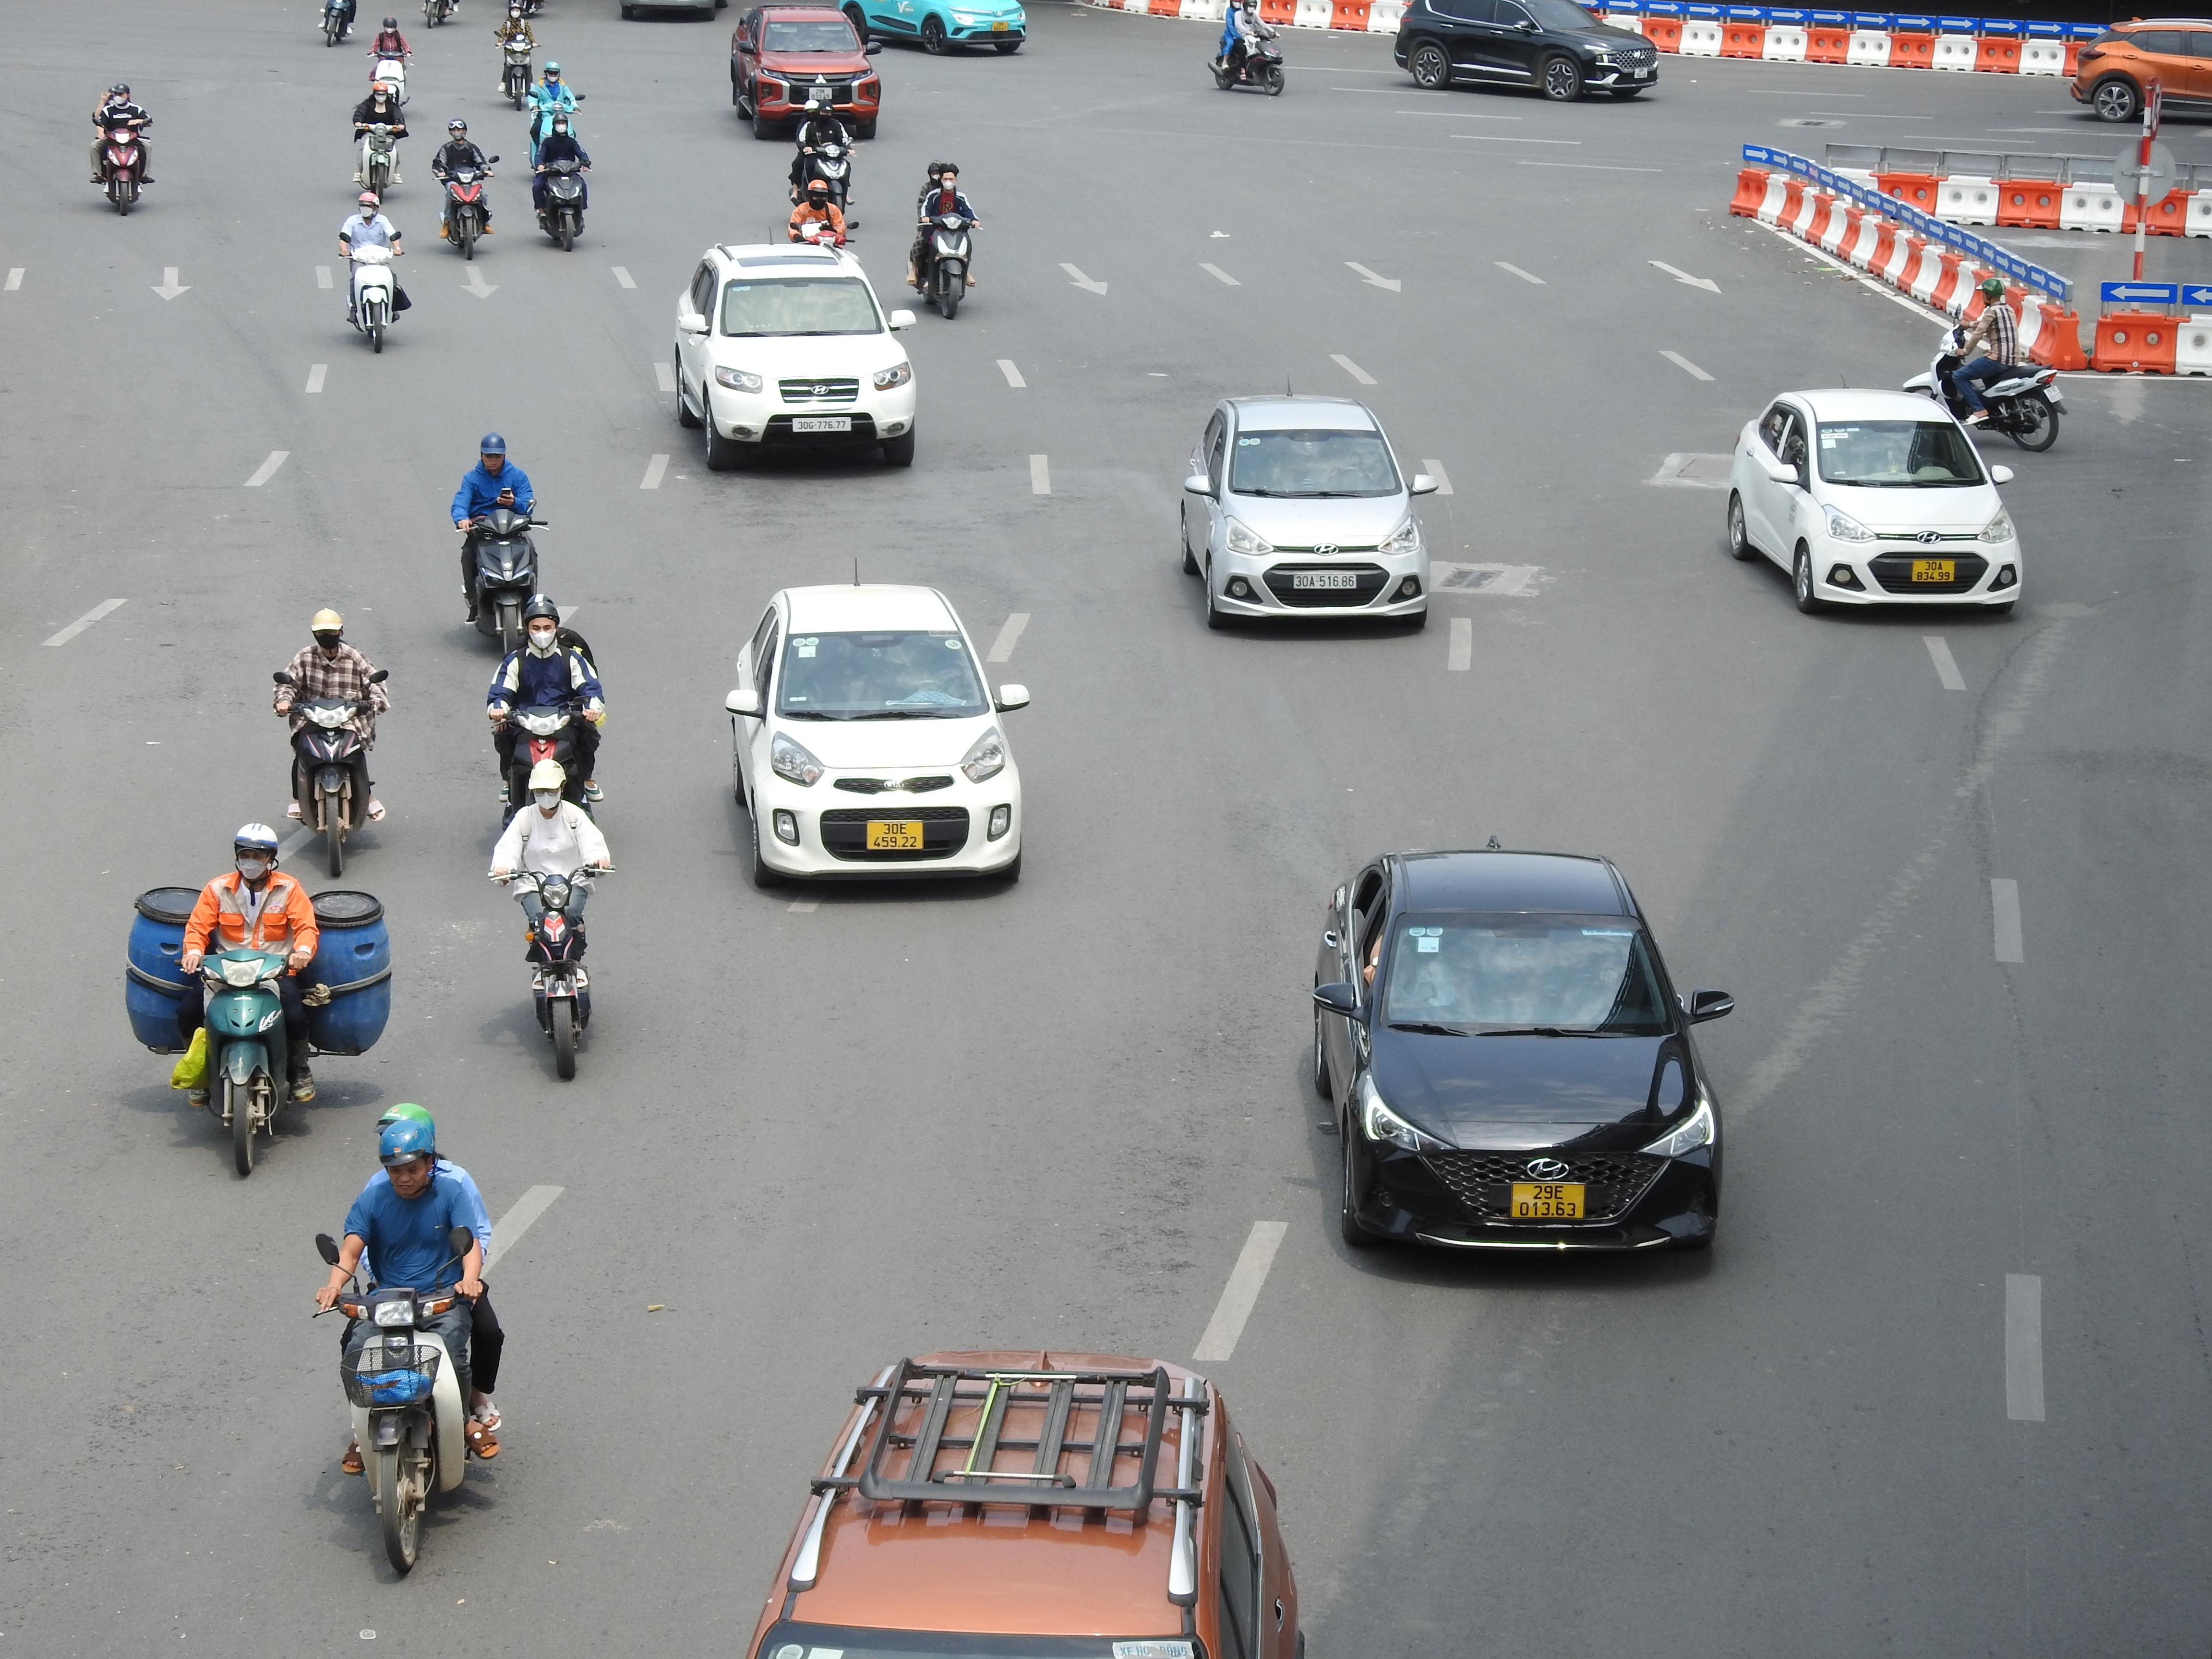BSD: (1292, 573, 1357, 589), (791, 416, 850, 432)
BSV: (1510, 1182, 1585, 1220), (866, 819, 923, 850), (1911, 559, 1954, 582), (808, 87, 833, 99)
car: (678, 1349, 1320, 1659), (1305, 847, 1735, 1262), (723, 582, 1033, 892), (1724, 387, 2024, 619), (1179, 396, 1444, 633), (669, 242, 920, 472), (1393, 0, 1662, 103), (728, 2, 883, 139), (2064, 21, 2212, 129), (846, 0, 1028, 56)
motorbike: (315, 1101, 505, 1581), (158, 821, 336, 1182), (495, 758, 610, 1082), (273, 605, 388, 878), (1904, 279, 2066, 451), (489, 594, 604, 824), (455, 432, 547, 653), (338, 188, 409, 354), (786, 92, 857, 251), (907, 159, 977, 321), (531, 110, 592, 253), (434, 117, 495, 258), (91, 80, 153, 216), (1211, 0, 1285, 96), (352, 77, 408, 200), (526, 61, 583, 155), (366, 16, 413, 115), (495, 3, 538, 108), (319, 0, 361, 45)
